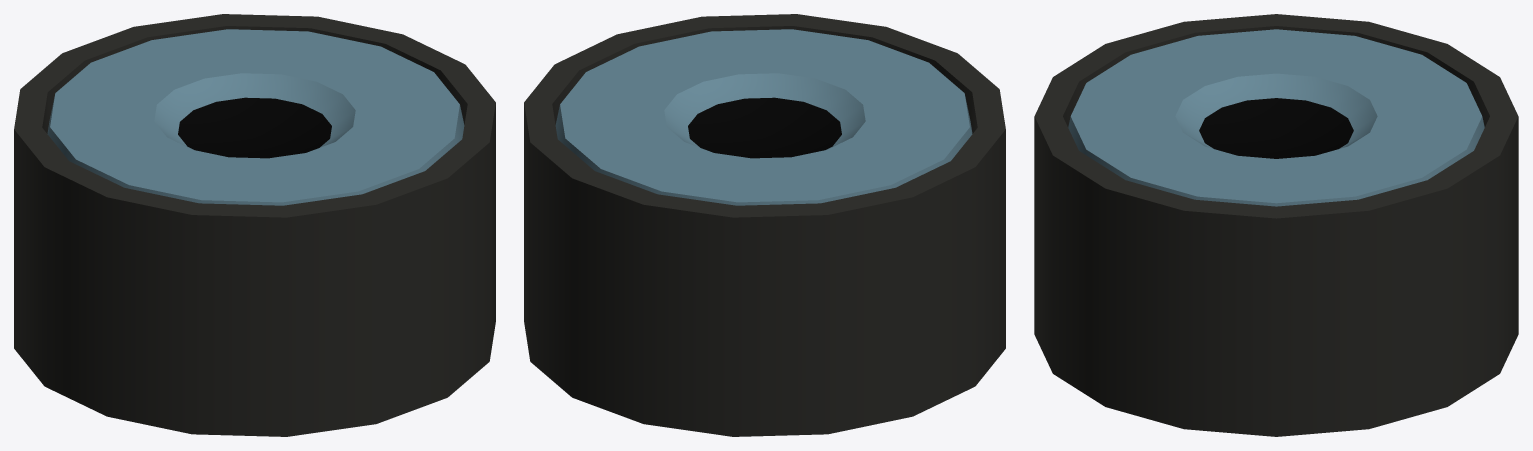
File: Wax_base_low.fbx
3 renders of one model, left to right at view 1: azimuth 30°, elevation 25°; view 2: azimuth 150°, elevation 25°; view 3: azimuth 270°, elevation 25°, orthographic.
Parts seen in each view (by area): view 1: Wax_Base; view 2: Wax_Base; view 3: Wax_Base.
Boxes of the visible parts, box(x1,y1,x2,y2) form: Wax_Base: box(14, 14, 495, 436); Wax_Base: box(524, 14, 1005, 436); Wax_Base: box(1034, 14, 1518, 436).
Size of the model in its own units: 136 by 67.93 by 136.
